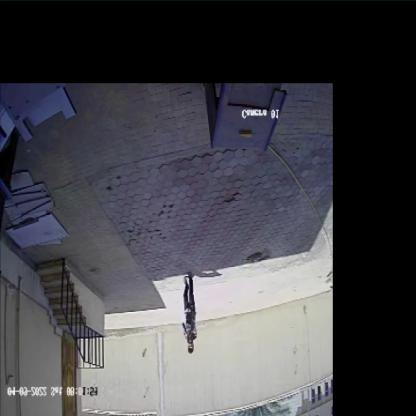handgun: (185, 330, 195, 347)
